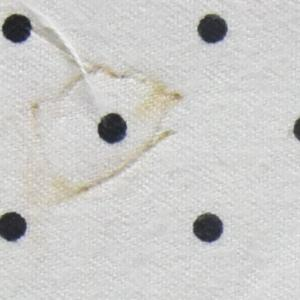Oil Stain: (28, 62, 191, 210)
